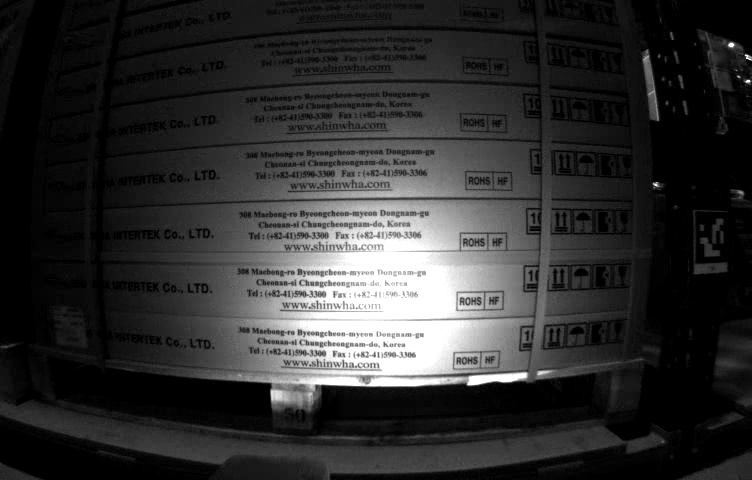True Barcode: (54, 304, 82, 348)
